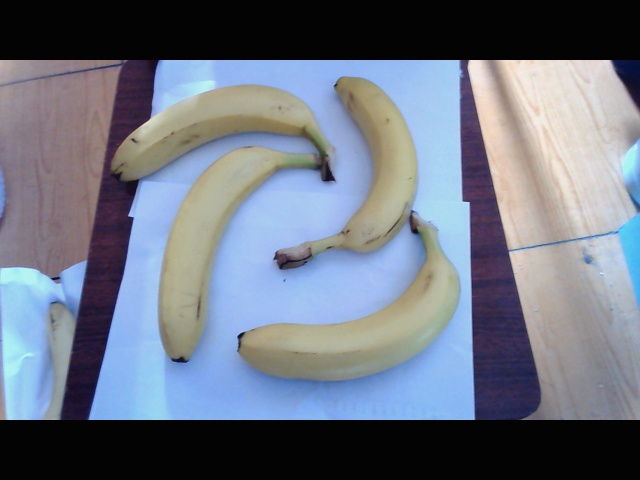banana: (230, 251, 466, 388), (147, 141, 267, 371), (104, 80, 337, 176), (324, 76, 423, 268)
